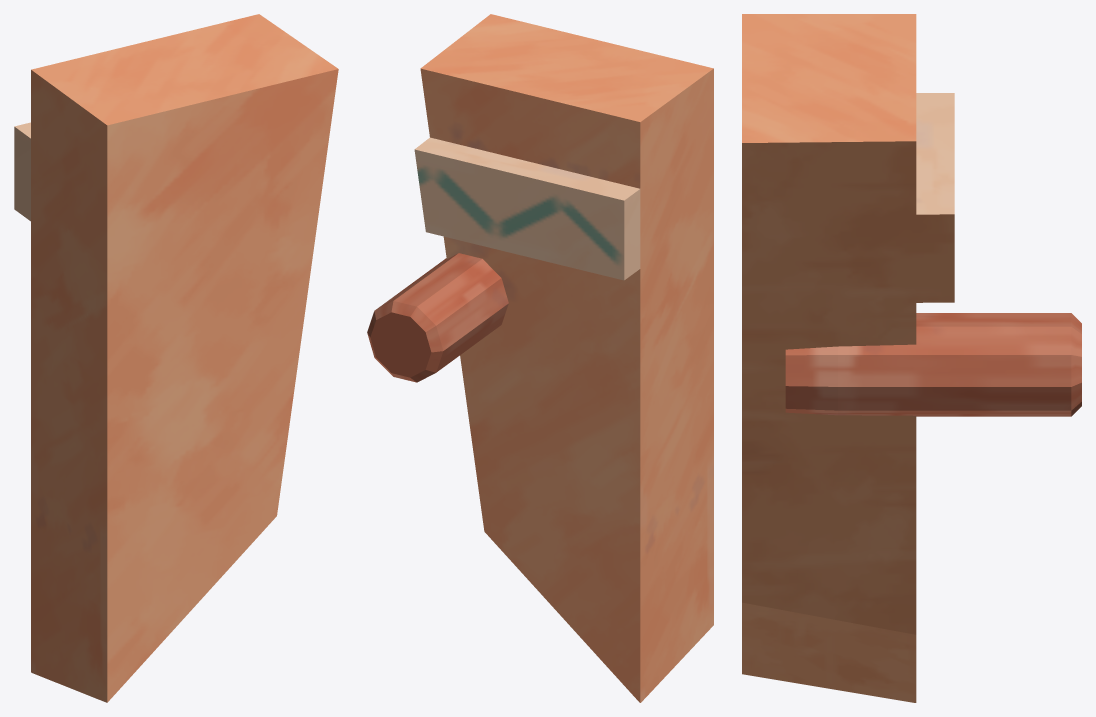
Rendered from wall2_arcade_s01.fbx.
3 views of the same model, side by side, from view 1: azimuth 30°, elevation 25°; view 2: azimuth 150°, elevation 25°; view 3: azimuth 270°, elevation 25° (orthographic). The views are drawn at different scales.
Parts seen in each view (by area): view 1: wall2_arcade_s01; view 2: wall2_arcade_s01; view 3: wall2_arcade_s01.
Boxes of the visible parts, x1,y1,x2,y2 form: wall2_arcade_s01: (14, 14, 338, 702); wall2_arcade_s01: (367, 14, 713, 702); wall2_arcade_s01: (742, 14, 1081, 702).
Size of the model in its own units: 1.75 by 4.36 by 1.95.
